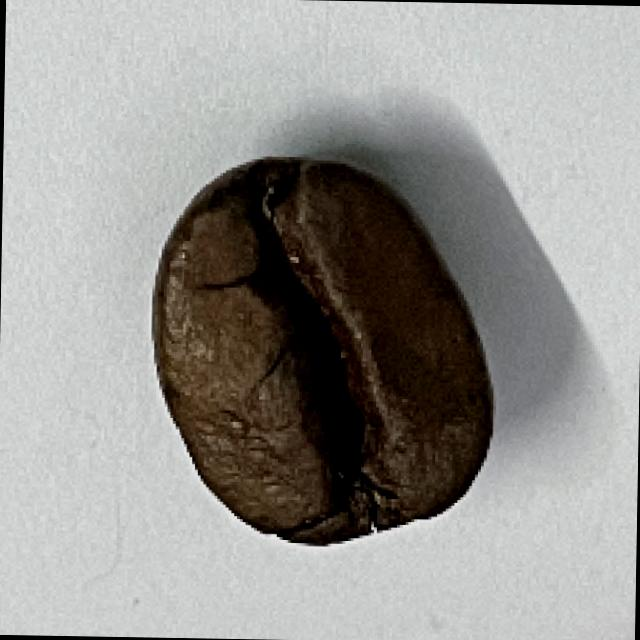bean: (139, 150, 506, 556)
